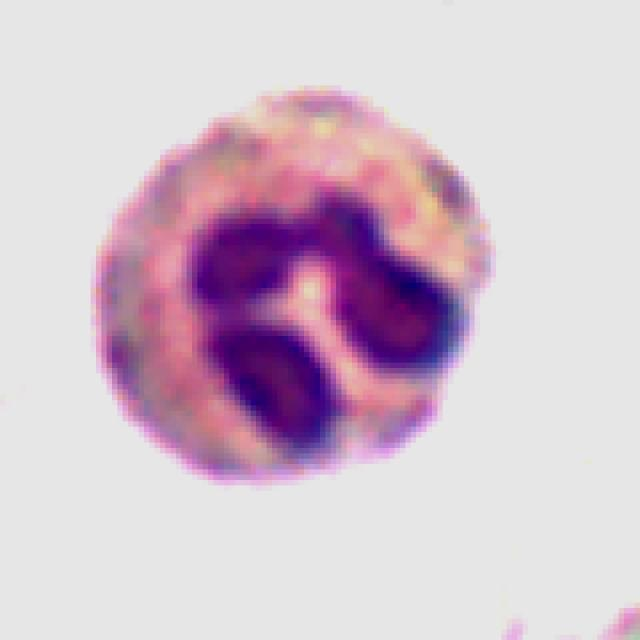WBC: (64, 64, 523, 501)
